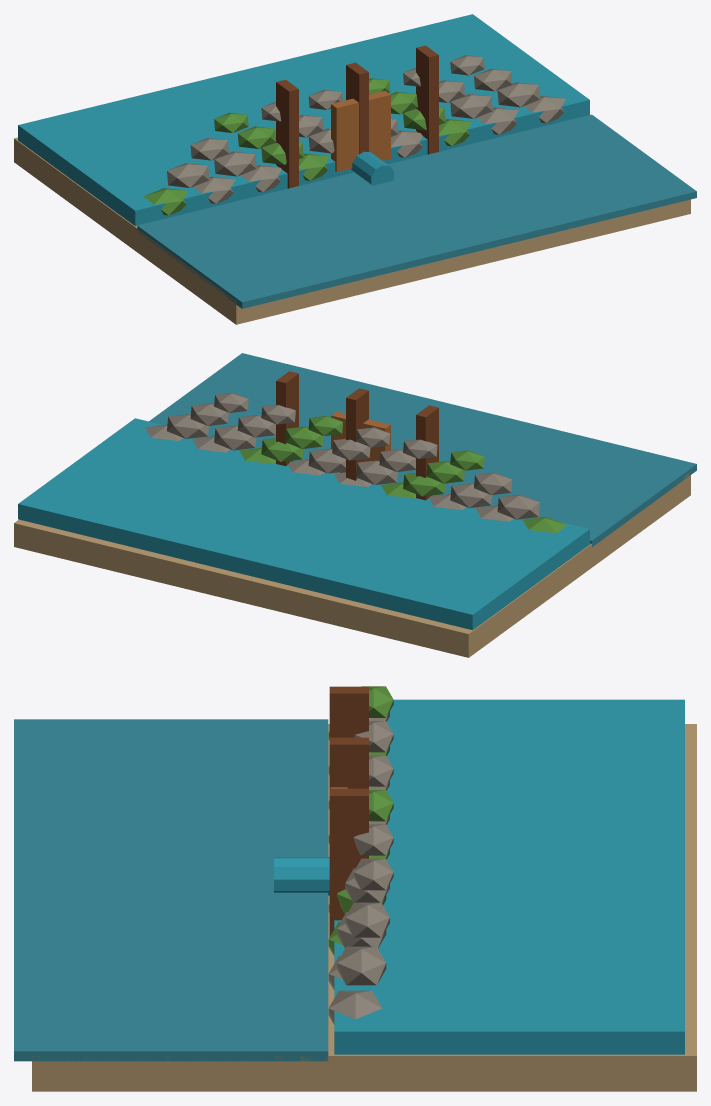
File: small_dam.glb
3 views of the same model, one above another, from view 1: azimuth 30°, elevation 25°; view 2: azimuth 150°, elevation 25°; view 3: azimuth 270°, elevation 25° (orthographic). The views are drawn at different scales.
Parts seen in each view (by area): view 1: RiverLower, RiverUpper, TerrainBase, SluiceGate, DamPile.002, DamPile, DamPile.001, Overflow, DamStone.009, DamStone.010, DamStone.016, DamStone.015 (+19 smaller); view 2: RiverUpper, RiverLower, TerrainBase, DamPile.001, DamPile.002, DamPile, DamStone.009, DamStone.015, DamStone.016, DamStone.010, DamStone.012, SluiceGate (+17 smaller); view 3: RiverUpper, RiverLower, TerrainBase, DamPile.002, DamPile.001, Overflow, DamPile, DamStone.016, DamStone.023, DamStone.008, DamStone.029, DamStone.028 (+6 smaller).
Part boxes in pixels (left/top/right/bottom): RiverLower: left=137, top=114, right=696, bottom=308; RiverUpper: left=18, top=14, right=589, bottom=225; TerrainBase: left=14, top=137, right=690, bottom=324; SluiceGate: left=331, top=91, right=390, bottom=171; DamPile.002: left=416, top=45, right=438, bottom=154; DamPile: left=276, top=79, right=298, bottom=188; DamPile.001: left=346, top=62, right=368, bottom=154; Overflow: left=351, top=151, right=393, bottom=185; DamStone.009: left=167, top=163, right=209, bottom=187; DamStone.010: left=214, top=151, right=256, bottom=176; DamStone.016: left=497, top=82, right=539, bottom=107; DamStone.015: left=450, top=93, right=492, bottom=118; RiverUpper: left=18, top=418, right=589, bottom=630; RiverLower: left=149, top=353, right=696, bottom=546; TerrainBase: left=14, top=472, right=690, bottom=657; DamPile.001: left=346, top=388, right=368, bottom=480; DamPile.002: left=276, top=371, right=298, bottom=466; DamPile: left=416, top=405, right=438, bottom=500; DamStone.009: left=497, top=494, right=539, bottom=519; DamStone.015: left=214, top=425, right=256, bottom=450; DamStone.016: left=167, top=414, right=208, bottom=438; DamStone.010: left=450, top=483, right=492, bottom=507; DamStone.012: left=356, top=460, right=397, bottom=484; SluiceGate: left=331, top=411, right=390, bottom=472; RiverUpper: left=334, top=699, right=684, bottom=1054; RiverLower: left=14, top=719, right=328, bottom=1061; TerrainBase: left=32, top=724, right=696, bottom=1091; DamPile.002: left=329, top=788, right=368, bottom=936; DamPile.001: left=329, top=737, right=368, bottom=788; Overflow: left=274, top=857, right=329, bottom=895; DamPile: left=329, top=686, right=368, bottom=737; DamStone.016: left=337, top=946, right=386, bottom=985; DamStone.023: left=345, top=902, right=389, bottom=937; DamStone.008: left=328, top=990, right=382, bottom=1024; DamStone.029: left=353, top=858, right=393, bottom=890; DamStone.028: left=353, top=824, right=393, bottom=855.
Bounding box in the file's own units: 13 × 3.37 × 11.3.
